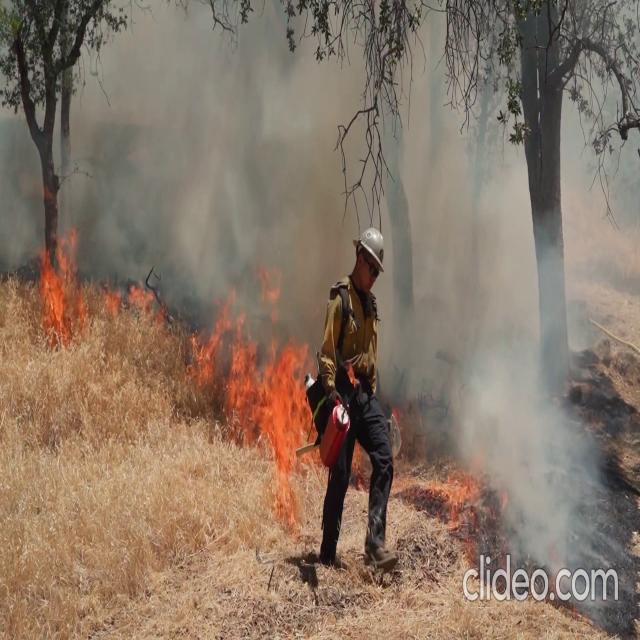Fire: (188, 288, 318, 480), (33, 220, 83, 334), (86, 270, 162, 326)
Smoke: (52, 15, 632, 322), (384, 39, 636, 589)
